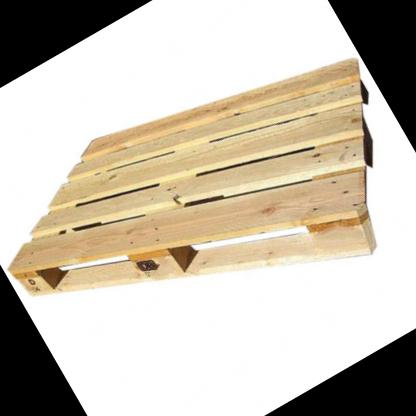BoxFace: (8, 56, 379, 298)
